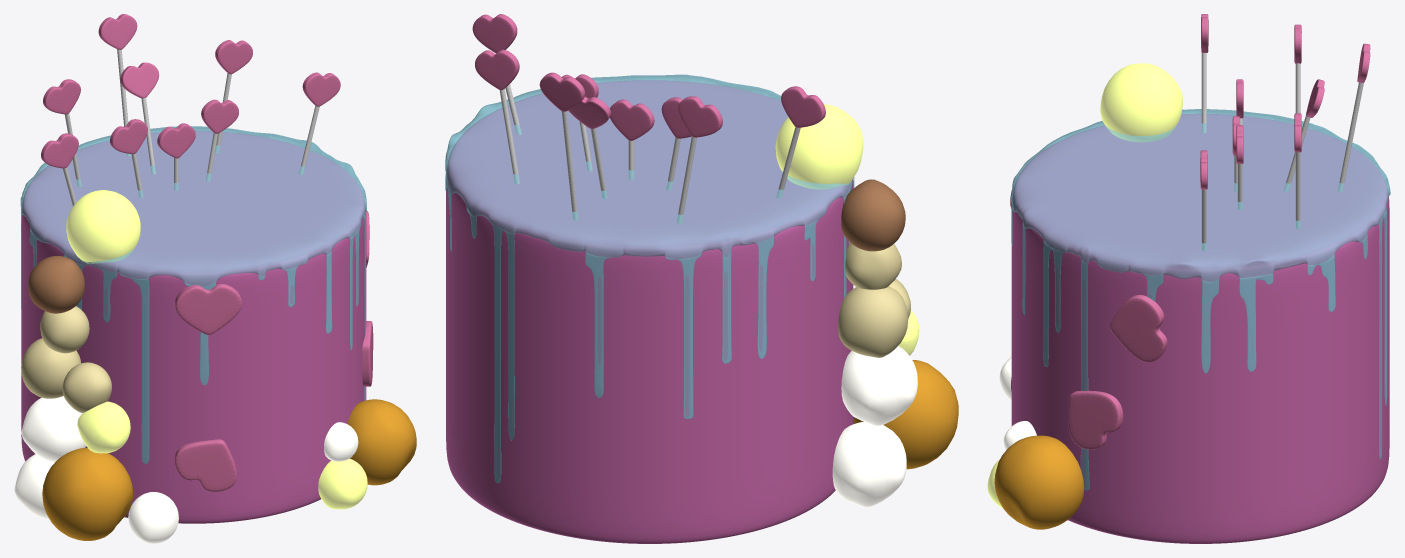
Rendered from Cake_Layer_1_Pink_Topper1_Hearts_BlueDrip.glb.
3 renders of one model, left to right at view 1: azimuth 30°, elevation 25°; view 2: azimuth 150°, elevation 25°; view 3: azimuth 270°, elevation 25°, orthographic. The views are drawn at different scales.
Parts seen in each view (by area): view 1: Circle, Circle.001, Sphere, Sphere.015, Sphere.026, Sphere.002, Sphere.006, Star.003, Star.002, Sphere.005, Sphere.003, Sphere.001 (+15 smaller); view 2: Circle, Circle.001, Sphere.015, Sphere.013, Sphere.002, Sphere, Sphere.005, Sphere.006, Sphere.010, Star.006, Star.005, Star.009 (+6 smaller); view 3: Circle, Circle.001, Sphere.026, Sphere.015, Star.001, Star.004, Cylinder.049, Sphere.027.
Part boxes in pixels (<box>): Circle: <box>21,131,366,523</box>; Circle.001: <box>20,126,366,463</box>; Sphere: <box>42,448,132,540</box>; Sphere.015: <box>66,190,140,263</box>; Sphere.026: <box>347,399,416,485</box>; Sphere.002: <box>21,396,85,462</box>; Sphere.006: <box>28,256,84,313</box>; Star.003: <box>175,284,241,334</box>; Star.002: <box>175,439,236,491</box>; Sphere.005: <box>21,338,80,398</box>; Sphere.003: <box>77,401,130,453</box>; Sphere.001: <box>128,492,178,543</box>; Circle: <box>446,80,853,543</box>; Circle.001: <box>445,74,854,483</box>; Sphere.015: <box>775,104,863,189</box>; Sphere.013: <box>832,421,906,507</box>; Sphere.002: <box>841,346,917,426</box>; Sphere: <box>853,360,958,469</box>; Sphere.005: <box>838,286,908,357</box>; Sphere.006: <box>841,179,905,251</box>; Sphere.010: <box>845,242,901,289</box>; Star.006: <box>678,96,722,137</box>; Star.005: <box>781,86,825,127</box>; Star.009: <box>475,49,519,90</box>; Circle: <box>1011,114,1389,543</box>; Circle.001: <box>1010,109,1390,490</box>; Sphere.026: <box>994,435,1083,529</box>; Sphere.015: <box>1100,63,1182,141</box>; Star.001: <box>1110,295,1167,362</box>; Star.004: <box>1068,390,1123,449</box>; Cylinder.049: <box>1338,82,1363,191</box>; Sphere.027: <box>1003,421,1036,450</box>.
Size of the model in its own units: 0.1763 by 0.1867 by 0.159.
